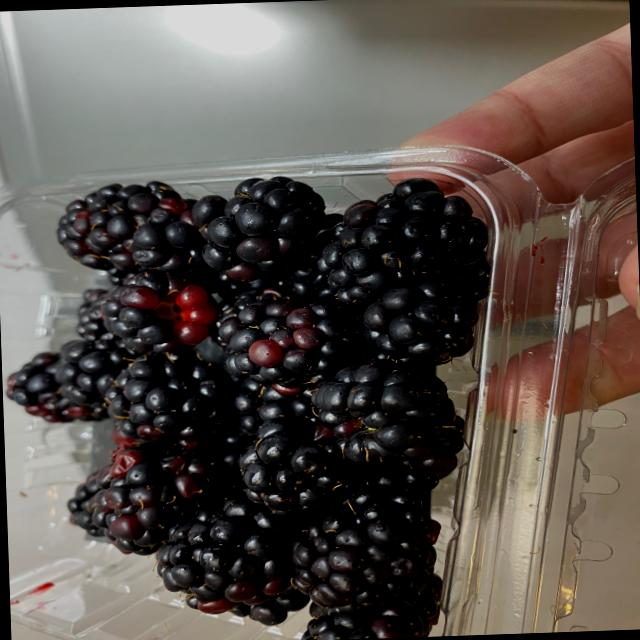blackberries: (13, 181, 505, 640)
